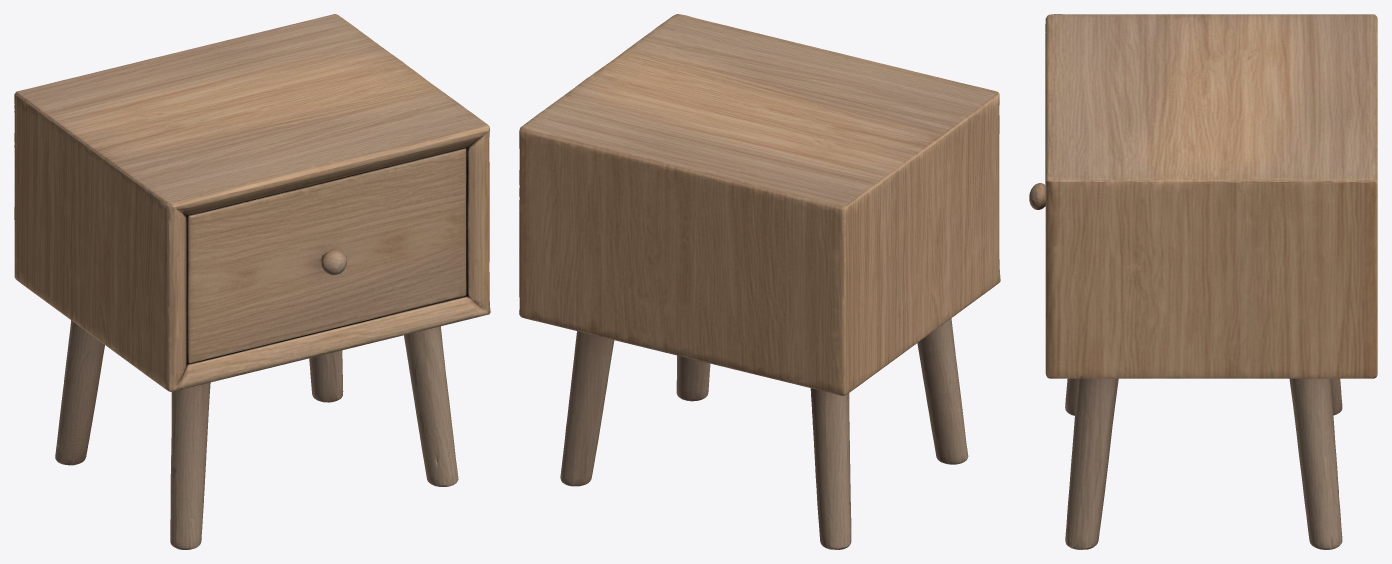
The model's file is L_NIGHTSTAND.glb.
3 renders of one model, left to right at view 1: azimuth 30°, elevation 25°; view 2: azimuth 150°, elevation 25°; view 3: azimuth 270°, elevation 25°, orthographic. The views are drawn at different scales.
Visible parts, largest first — view 1: world; view 2: world; view 3: world.
Part boxes in pixels (x1=…): world: x1=14, y1=14, x2=490, y2=549; world: x1=519, y1=14, x2=1000, y2=549; world: x1=1029, y1=14, x2=1377, y2=549.
Bounding box in the file's own units: 0.5164 × 0.55 × 0.4545.
Materials: 1 (1 with a texture image).
